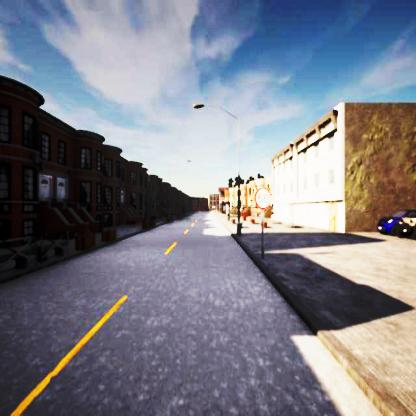vehicle: (378, 209, 416, 236)
